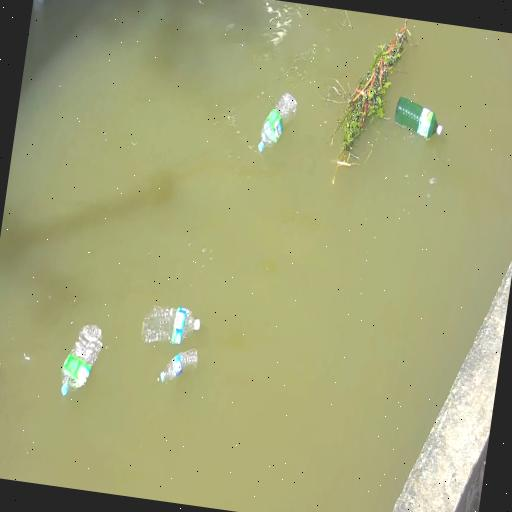plastic: (58, 316, 106, 404), (256, 85, 302, 159), (136, 301, 204, 349), (388, 94, 450, 143), (158, 346, 200, 394)
twig: (330, 21, 412, 176)
